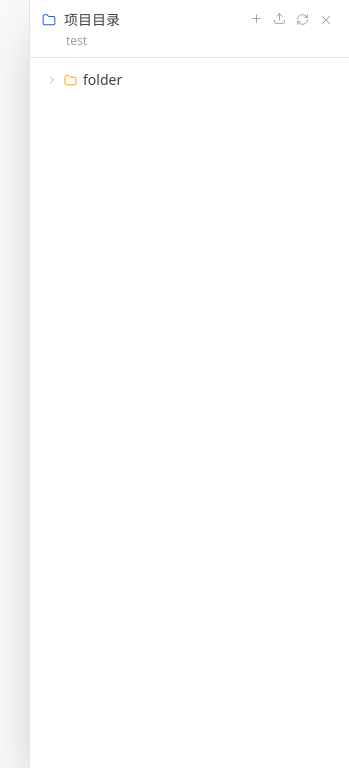
Test: refresh reloads an expanded directory after its content changes externally
Click the button "folder" at (103, 80), box [38,66,341,94]
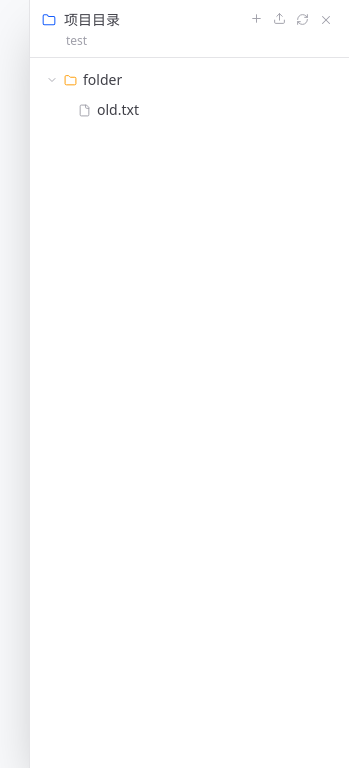
expect the button "old.txt" is shown: met, box [38,96,341,124]
Click the button named "刷新" at (302, 20), box [292,9,313,30]
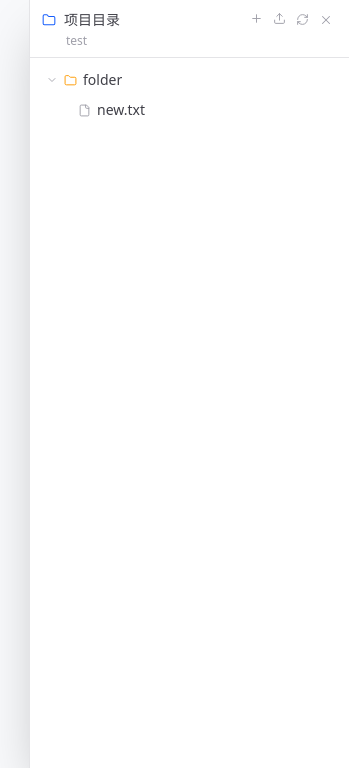
expect the button "new.txt" is shown: met, box [38,96,341,124]
